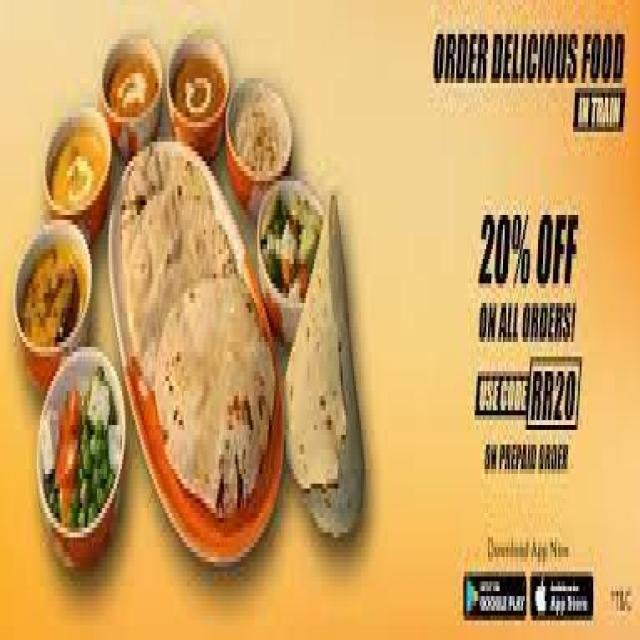papad: (279, 249, 360, 526)
rice: (278, 245, 360, 524)
roti: (119, 152, 277, 540)
sweet: (33, 357, 121, 547), (17, 231, 94, 362), (225, 83, 293, 191)
